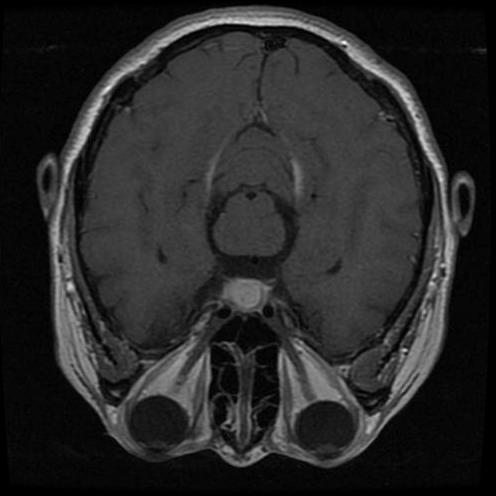Tumour-Pituitary: (213, 270, 278, 319)
